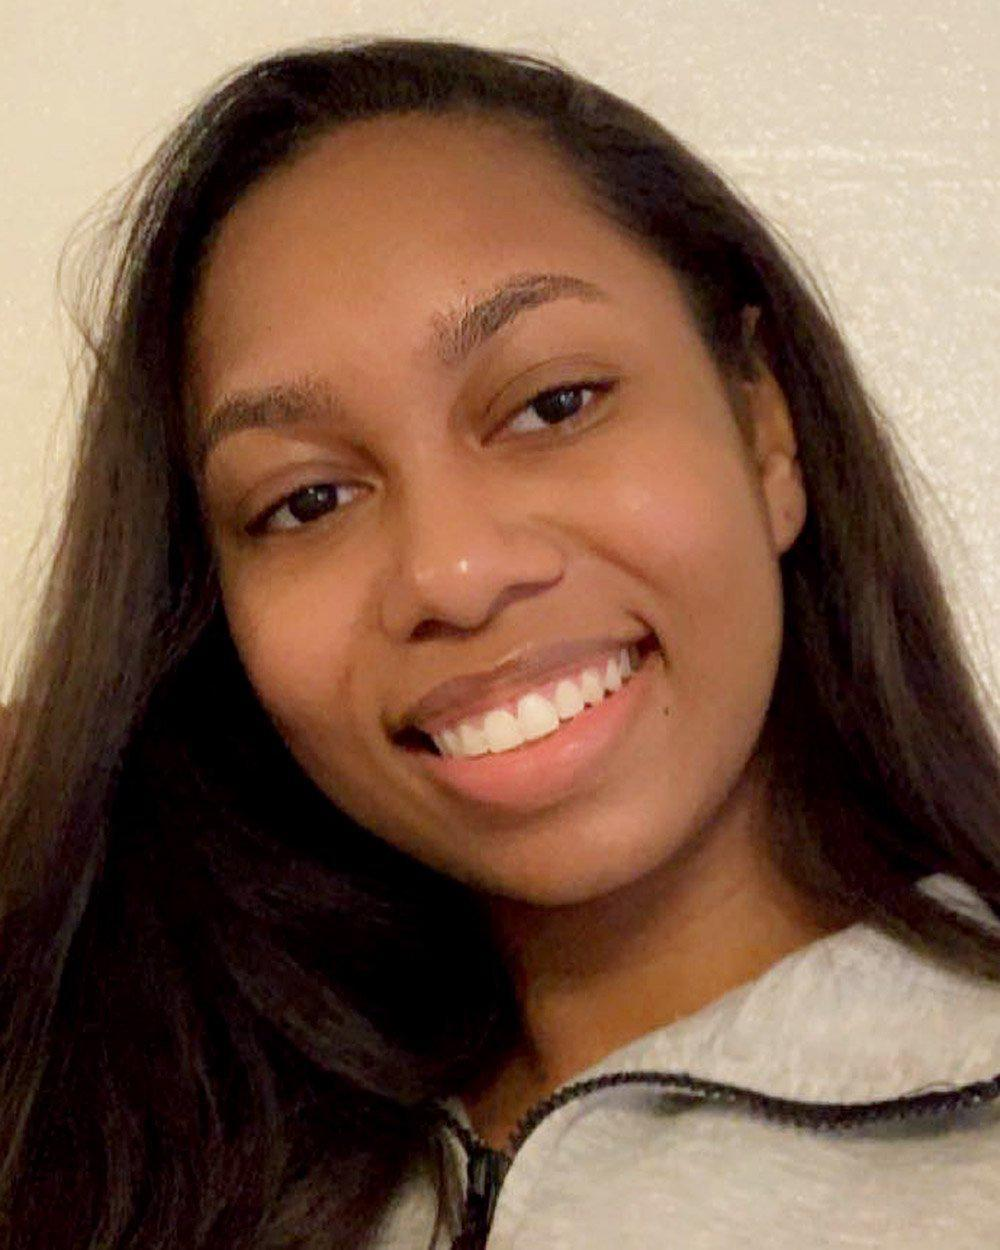Sober: (203, 186, 760, 832)
